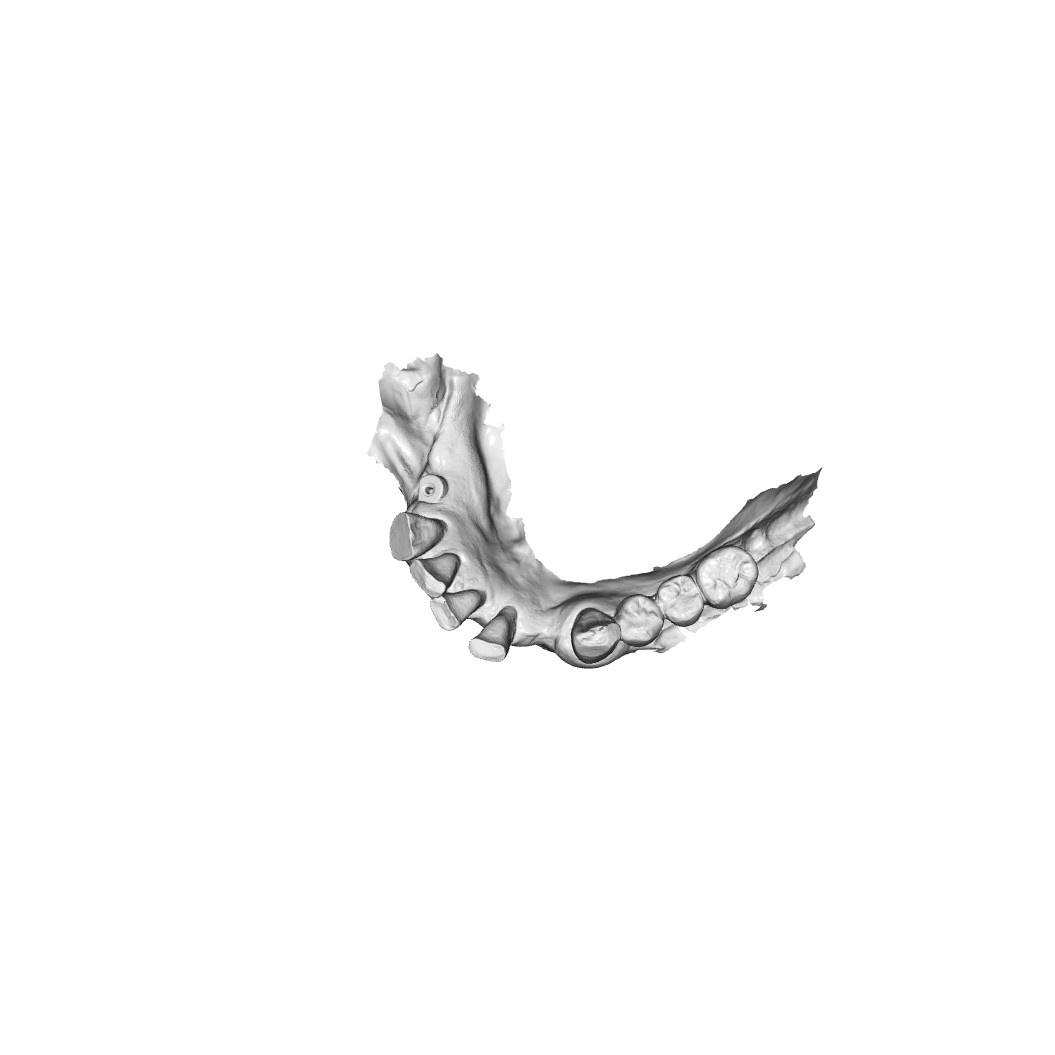canine: (385, 511, 452, 564), (574, 609, 623, 663)
implant: (419, 472, 449, 506)
incisor: (466, 610, 514, 658), (409, 552, 460, 597), (437, 590, 486, 628)
molar: (700, 546, 756, 605)
premolar: (659, 577, 709, 623), (619, 600, 663, 641)
